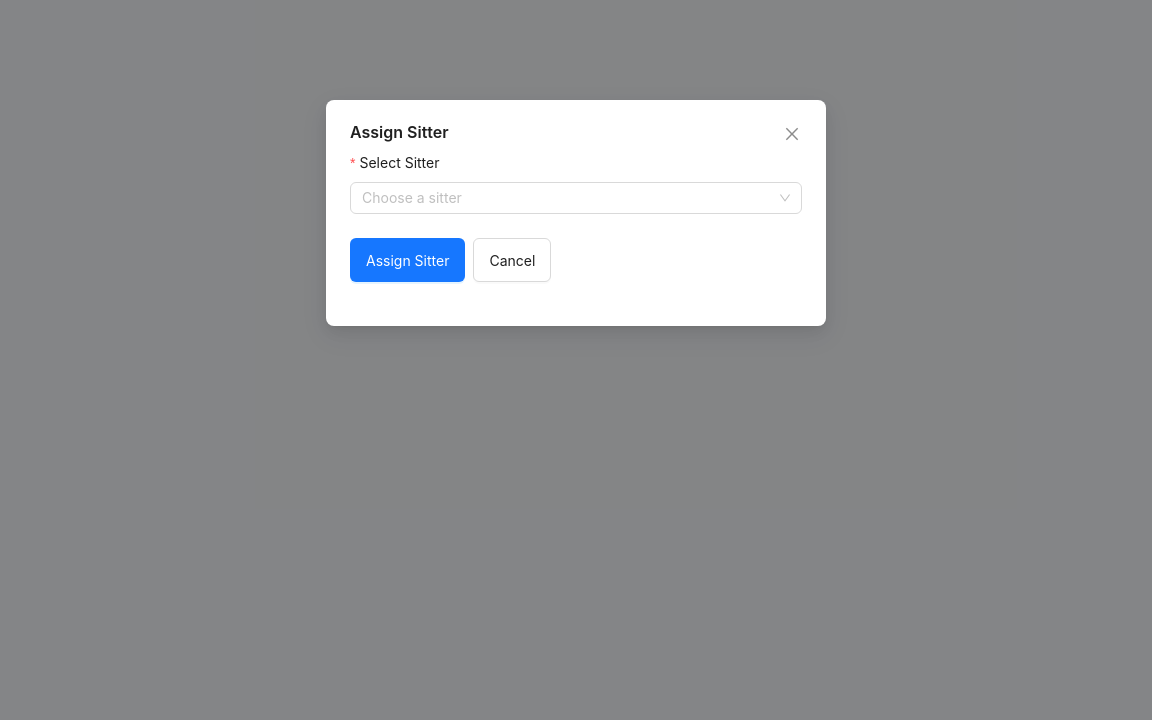
Test case: AssignSitterModal › should display sitter options when sitters are available
Click the dropdown labelled "Select Sitter".
click(567, 205)  # box [362,183,772,227]
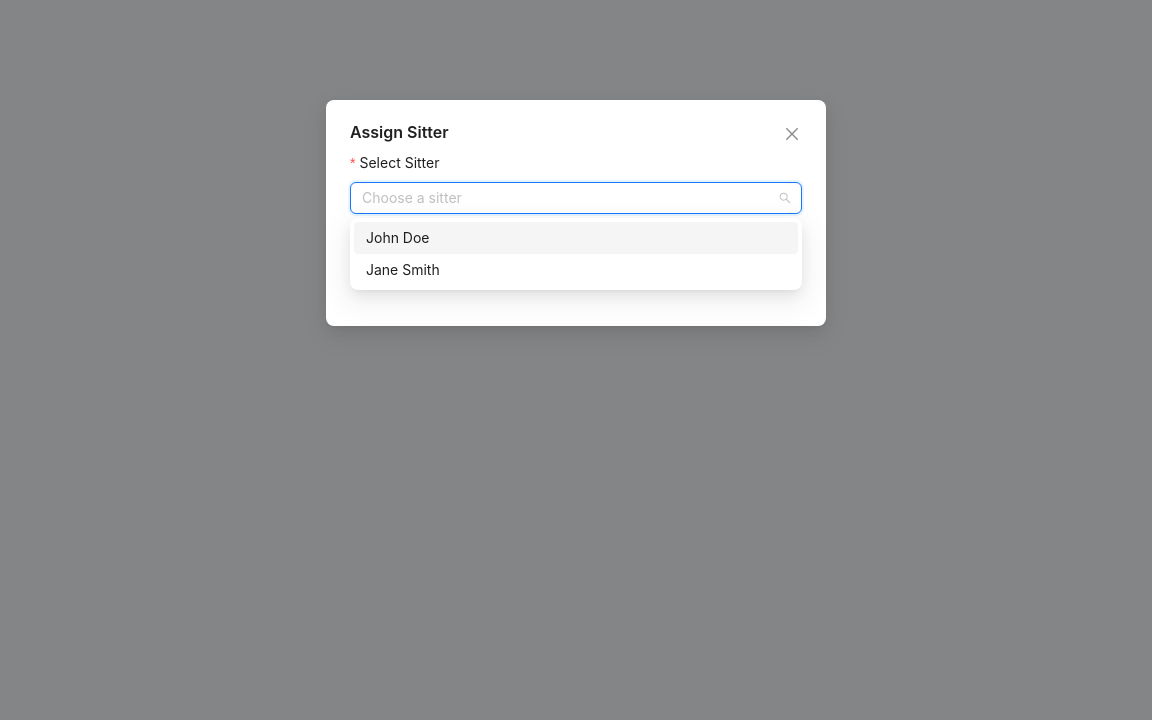
Now the text "John Doe" is shown, box [366,229,430,246]
Now the text "Jane Smith" is shown, box [366,261,440,278]
